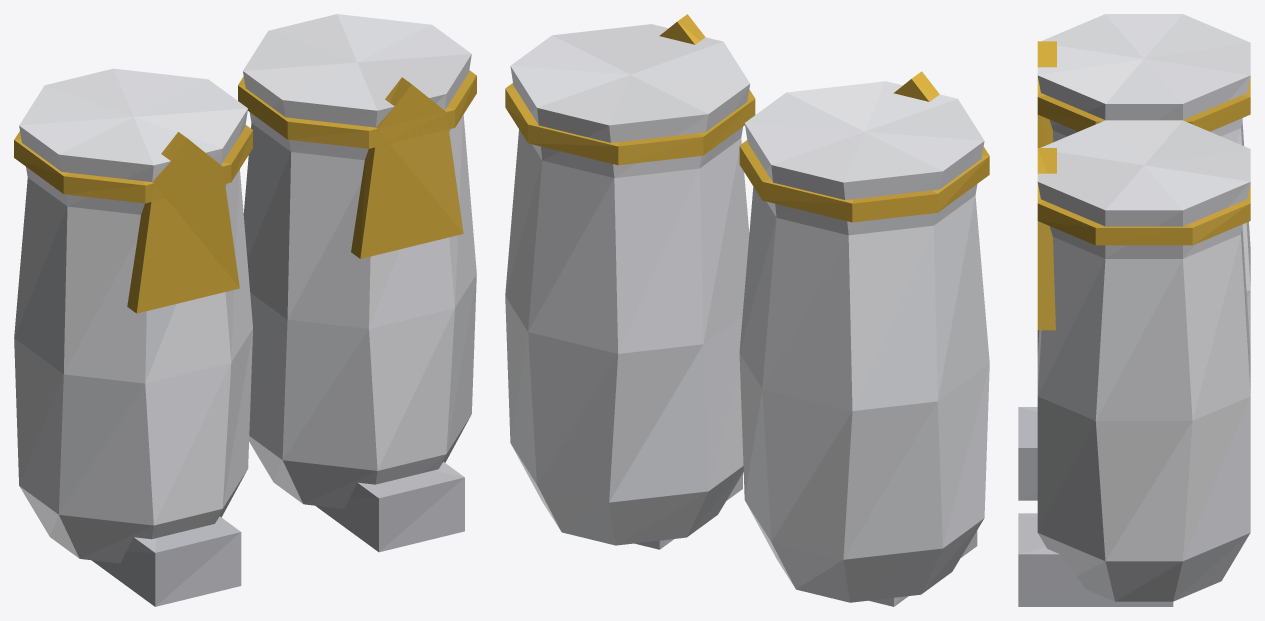
Rendered from B05_6_paladin_greaves.obj.
3 renders of one model, left to right at view 1: azimuth 30°, elevation 25°; view 2: azimuth 150°, elevation 25°; view 3: azimuth 270°, elevation 25°, orthographic. The views are drawn at different scales.
Parts seen in each view (by area): view 1: B05_6_paladin_greaves; view 2: B05_6_paladin_greaves; view 3: B05_6_paladin_greaves.
Boxes of the visible parts, x1,y1,x2,y2 form: B05_6_paladin_greaves: (14, 14, 476, 606); B05_6_paladin_greaves: (505, 14, 989, 606); B05_6_paladin_greaves: (1018, 14, 1250, 606).
Bounding box in the file's own units: 48 × 50 × 24.
